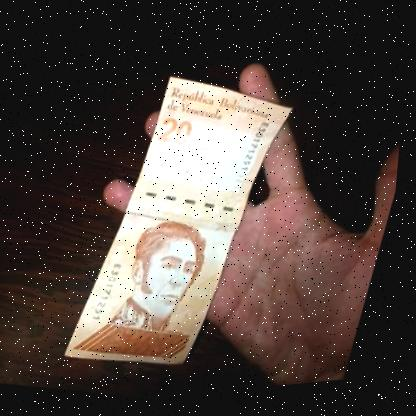twenty-front-vef: (68, 64, 299, 391)
